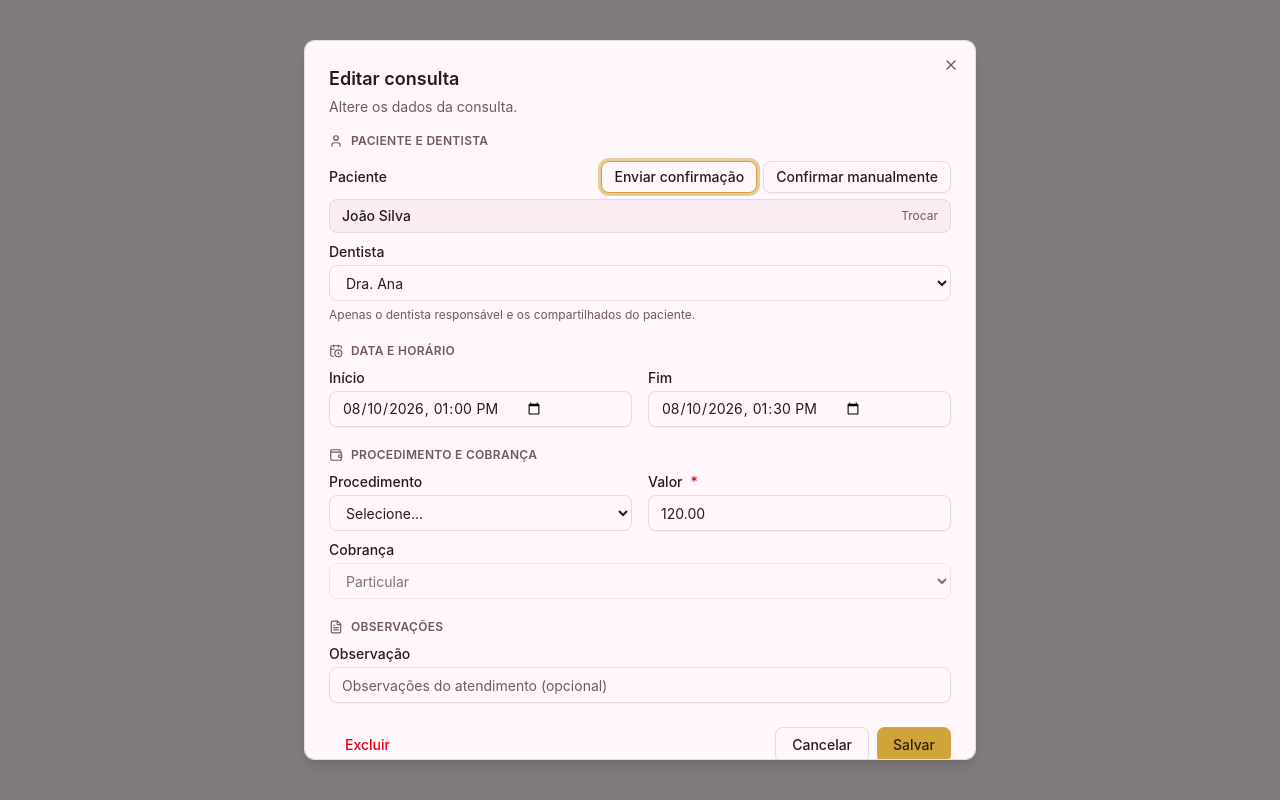
it: ConsultaModal › confirma manualmente uma consulta pendente
The image size is (1280, 800).
Click the button "Confirmar manualmente" at (857, 177), box 763,161 -> 951,193
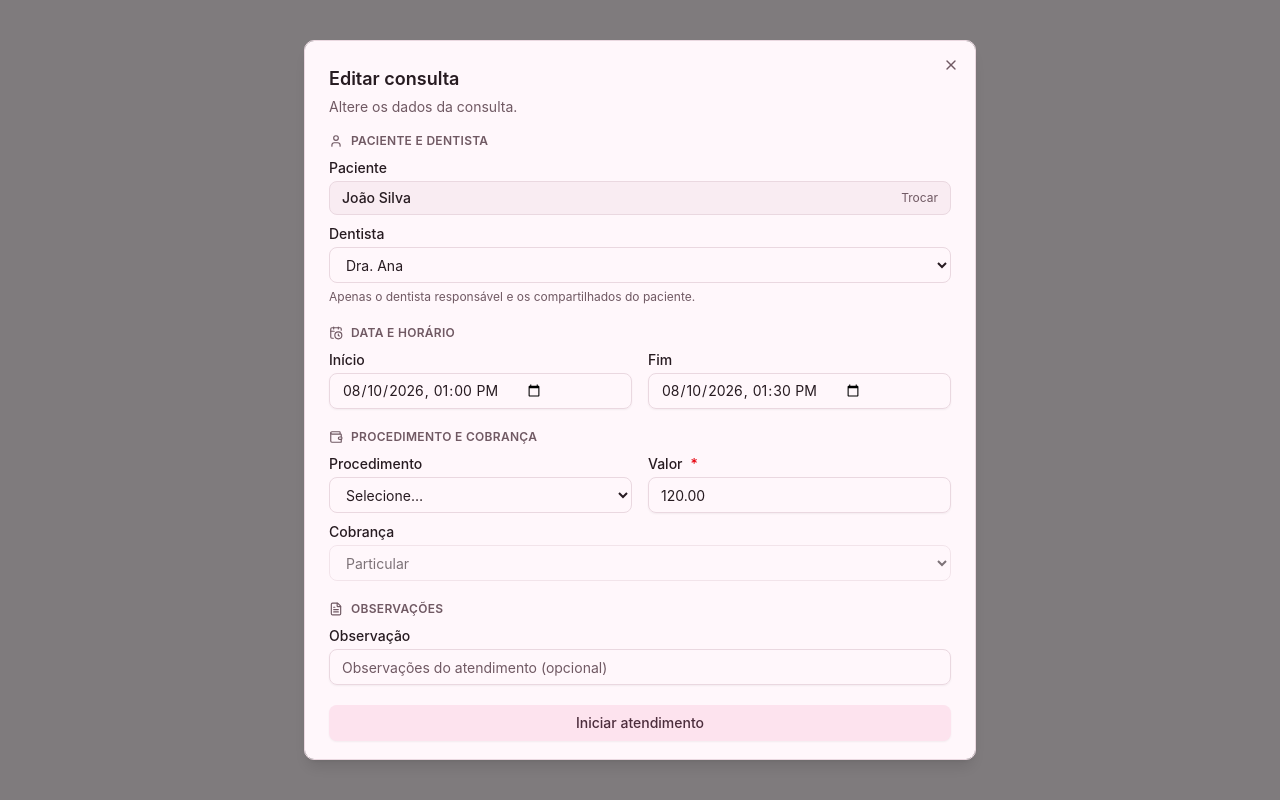
Now the button "Confirmar manualmente" is gone
Now the button "Enviar confirmação" is gone
Now the button "Iniciar atendimento" is shown, box 329,705 -> 951,741
